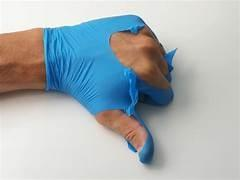Glove: (44, 15, 172, 162)
